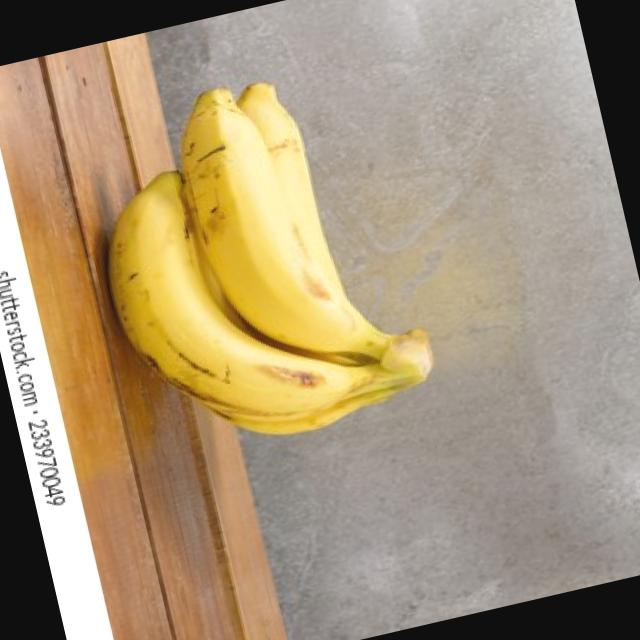Platano: (62, 49, 450, 472)
